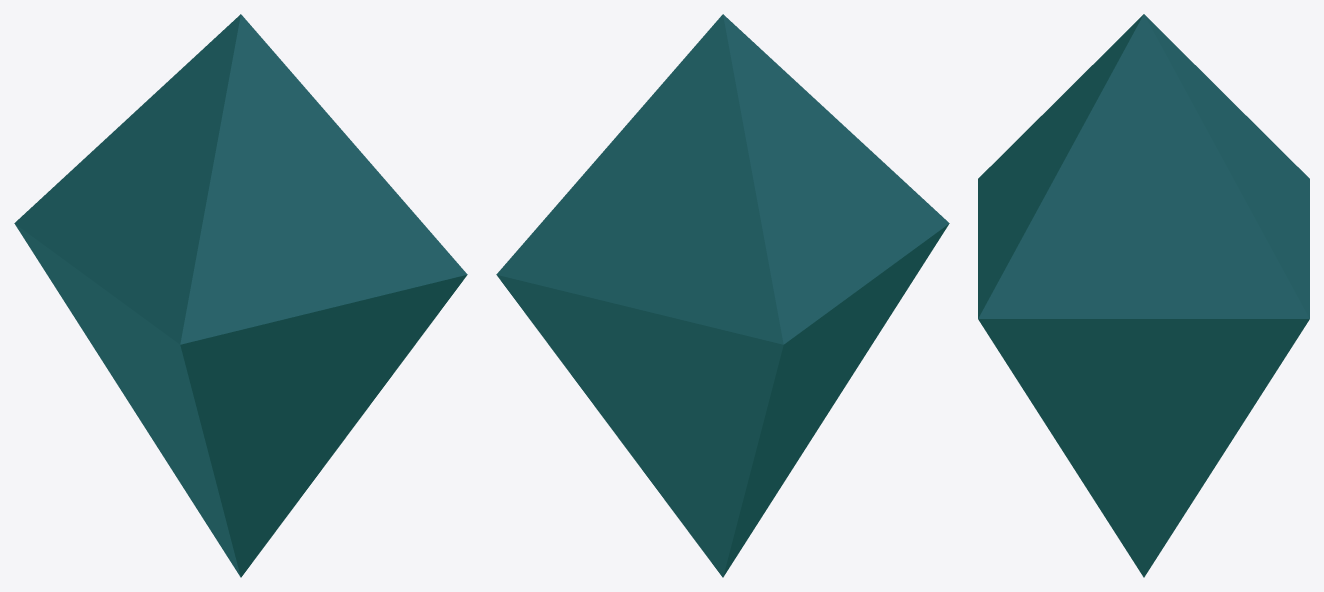
File: avatar.fbx
3 views of the same model, side by side, from view 1: azimuth 30°, elevation 25°; view 2: azimuth 150°, elevation 25°; view 3: azimuth 270°, elevation 25° (orthographic).
Visible parts, largest first — view 1: CyberAvatar; view 2: CyberAvatar; view 3: CyberAvatar.
Part boxes in pixels (x1,y1,x2,y2): CyberAvatar: [14, 14, 467, 577]; CyberAvatar: [496, 14, 949, 577]; CyberAvatar: [978, 14, 1309, 577].
Bounding box in the file's own units: 64 × 120 × 64.
